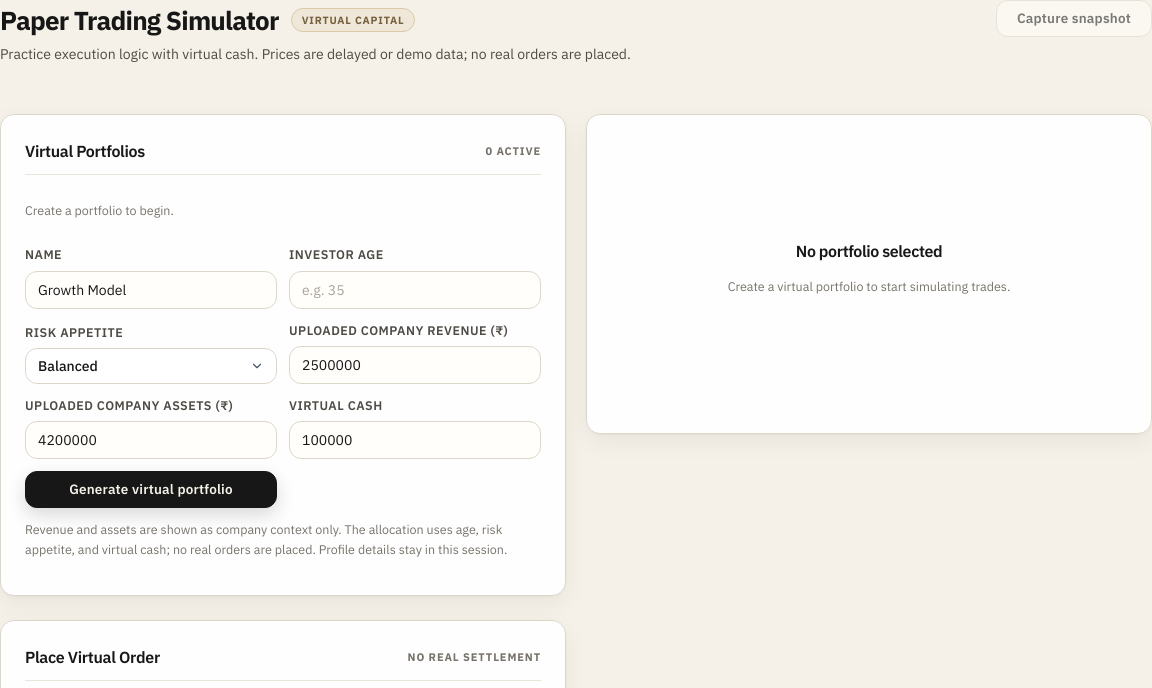
it: Phase 2 pages › generates an age and risk based virtual allocation without sending profile data to the API
This screenshot has width=1152, height=688.
In the number field labelled "Investor age": [415, 290] box [289,270,541,308], type "40"
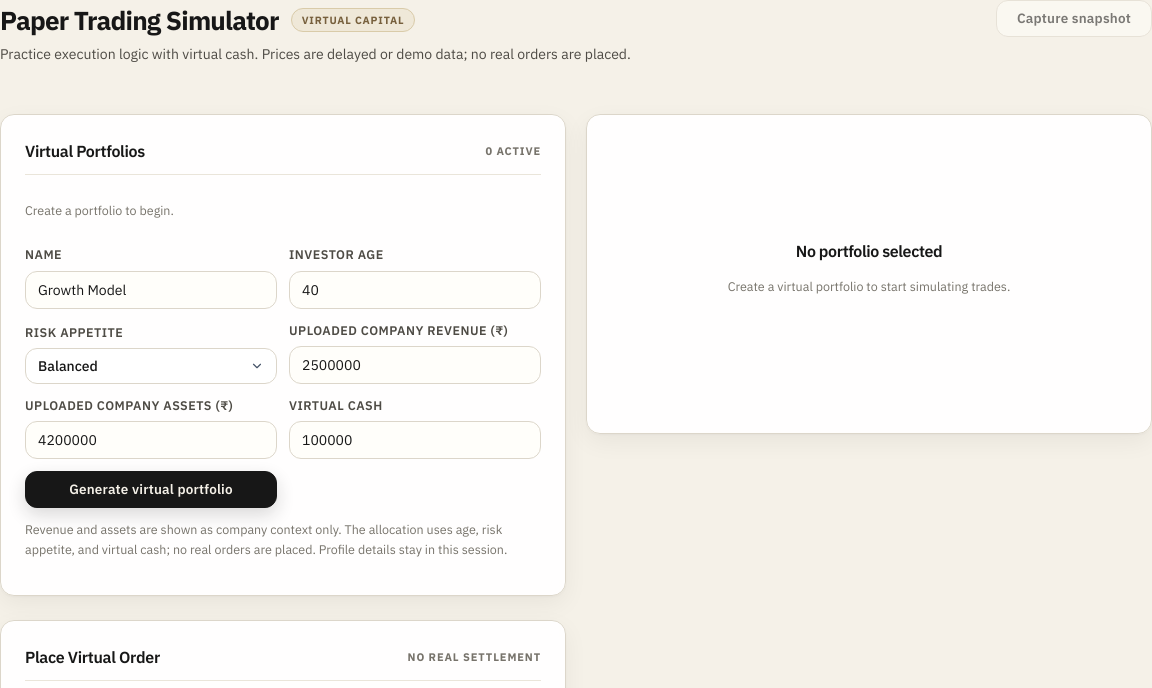
Click the button "Generate virtual portfolio": [151, 490] box [25,471,277,508]
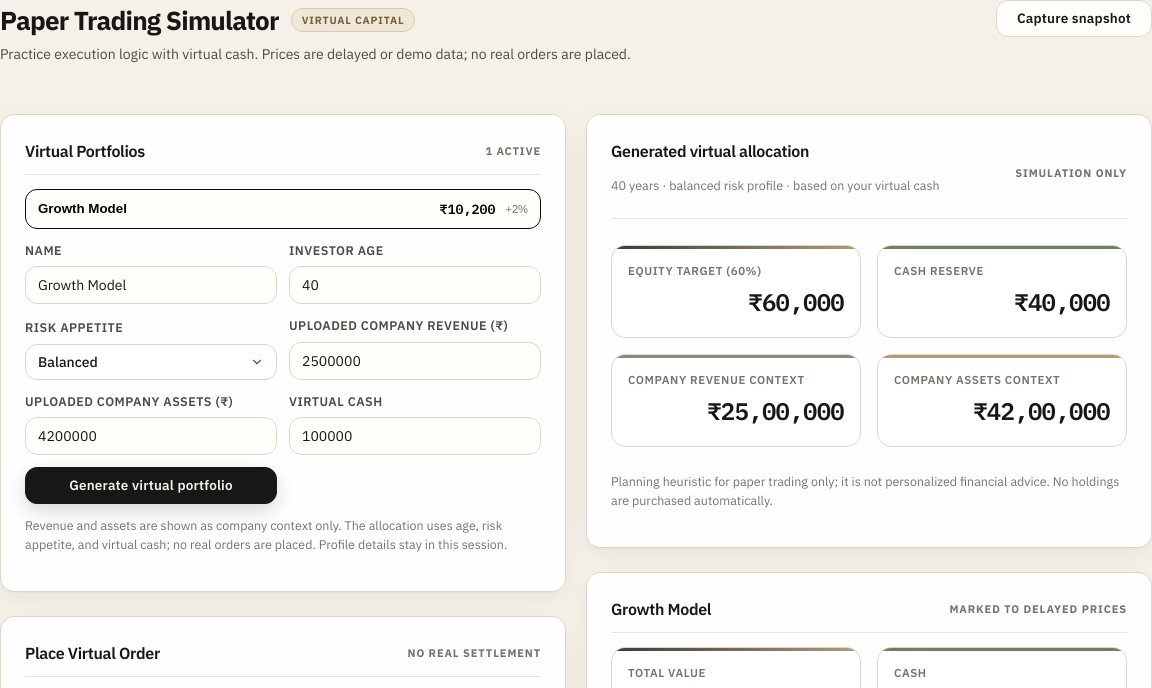
Expected: the element with test id "generated-portfolio-plan" shows "Equity target (60%)", [611,139,1127,523]
Expected: the element with test id "generated-portfolio-plan" shows "₹60,000", [748,286,844,318]
Expected: the element with test id "generated-portfolio-plan" shows "₹40,000", [1014,286,1110,318]
